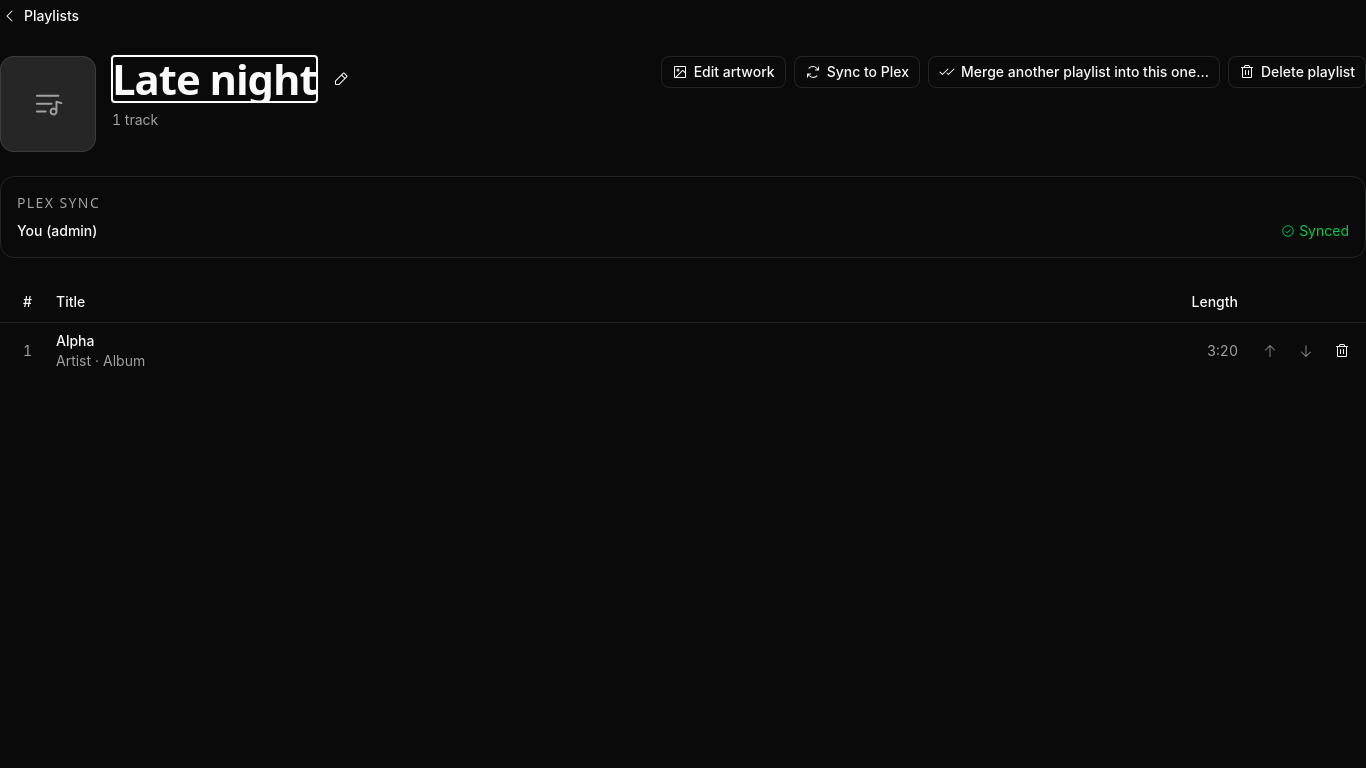
Test: PlaylistDetailPage › delete dialog counts the synced Plex copies that actually exist
Expected: the text "Alpha" is shown, [56,330,94,350]
Click the button "Delete playlist": {"x": 1297, "y": 72} [1228,56,1365,88]
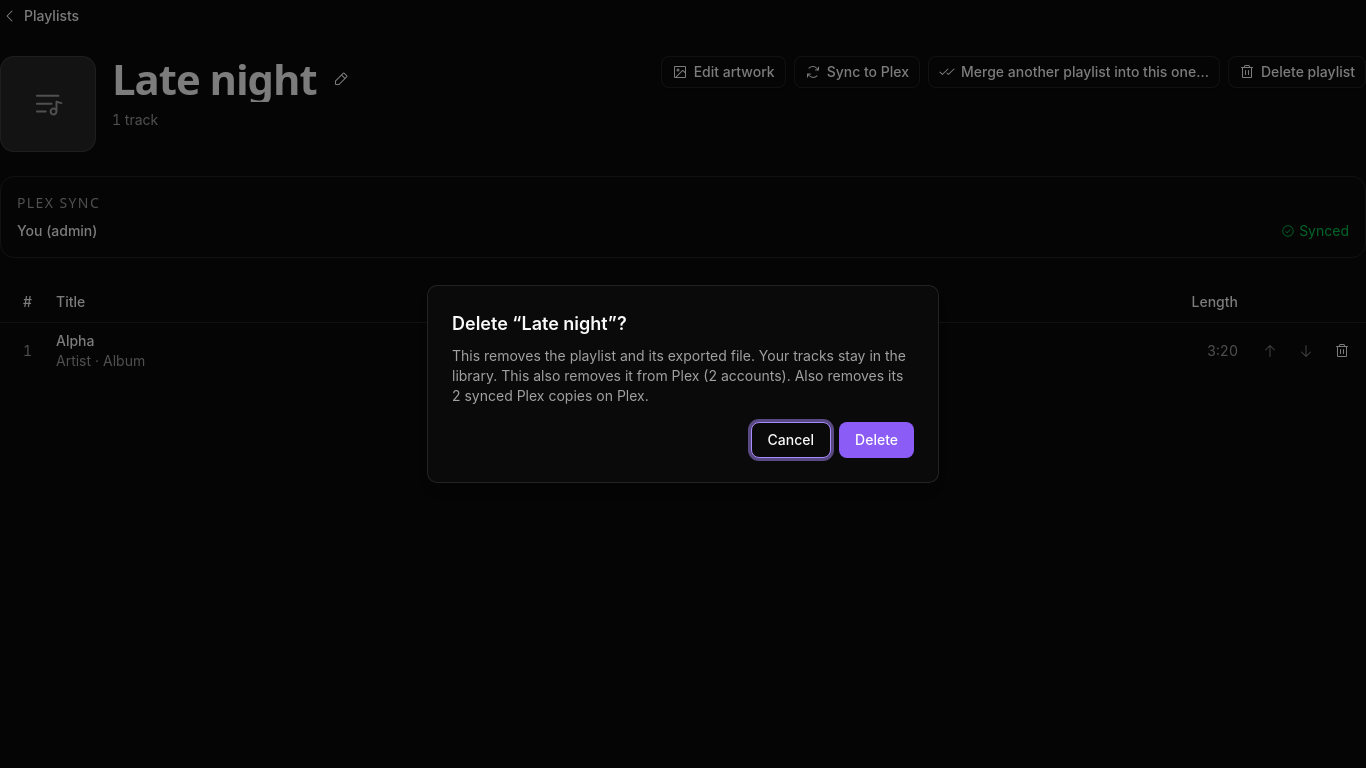
Now the text "Also removes its 2 synced Plex copies on Plex." is shown, box [452,367,903,404]
